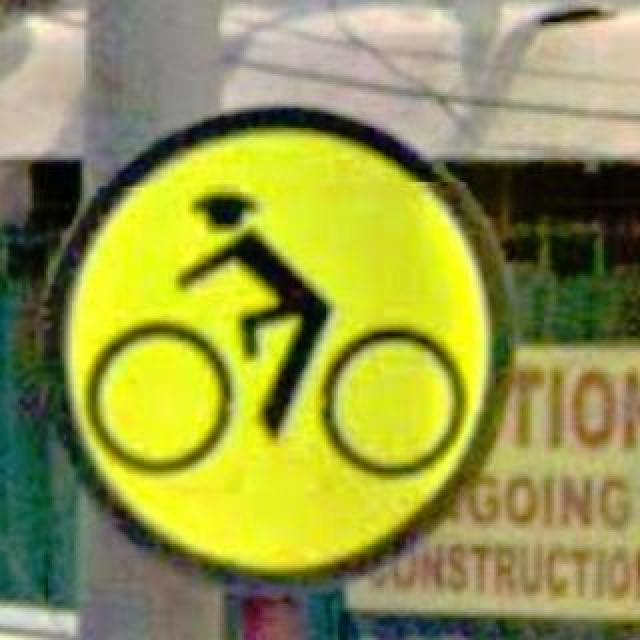bike lane: (36, 106, 512, 586)
